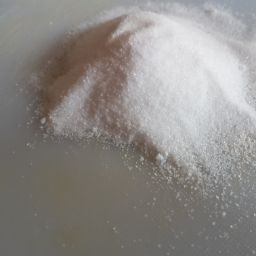Sugar: (47, 1, 256, 207), (10, 13, 192, 198), (108, 28, 210, 139)
